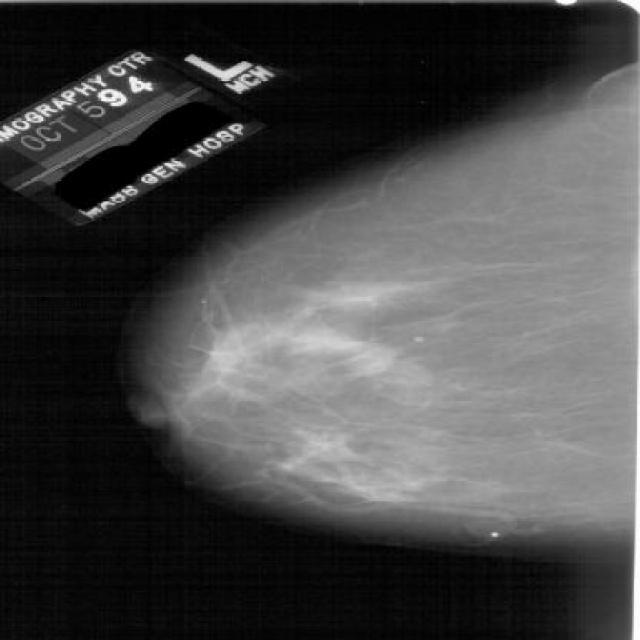tumor: (176, 278, 432, 496)
